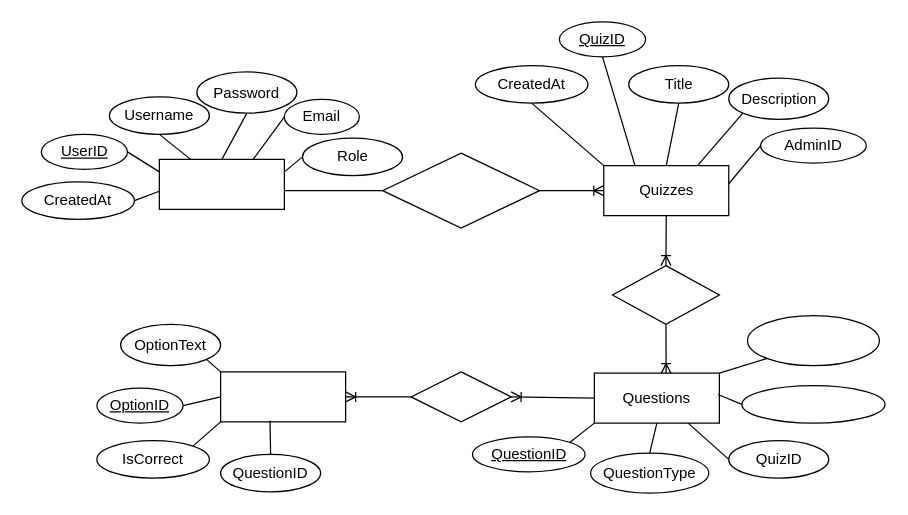
This 908x515 diagram has some shape labels left out. Here are the shapes that lost their labels. From the top down, the centre of each, then its label:
At pixel 221 183: "Users".
At pixel 460 190: "Creates".
At pixel 665 294: "Contains".
At pixel 812 340: "QuestionText".
At pixel 282 396: "Options".
At pixel 460 396: "Has".
At pixel 813 403: "DifficultyLevel".
